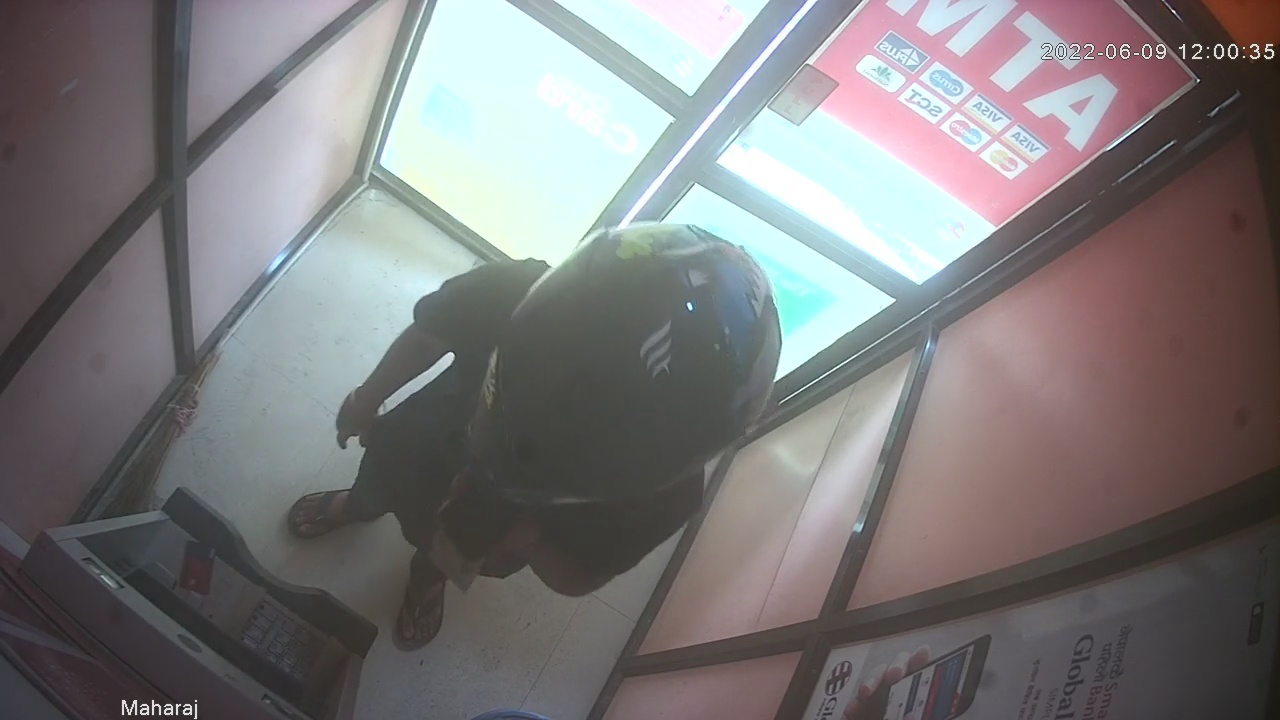helmet: (466, 222, 781, 506)
person: (286, 222, 785, 655)
